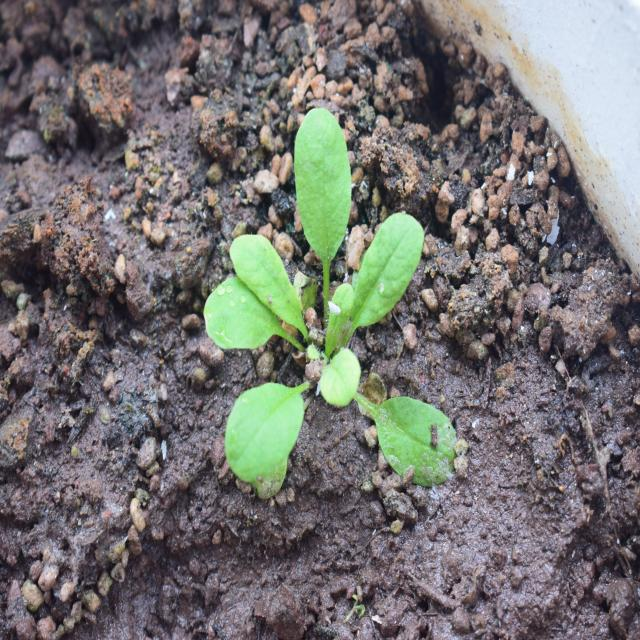Shepherd_Purse: (212, 110, 469, 484)
